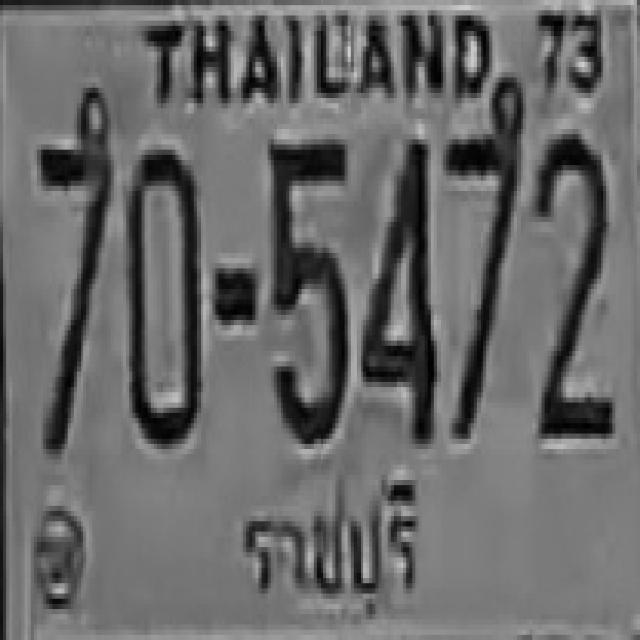0: (125, 144, 202, 444)
2: (532, 129, 610, 434)
4: (358, 134, 436, 439)
5: (268, 137, 348, 441)
7: (36, 108, 112, 454), (443, 116, 523, 436)
Ratchaburi: (231, 471, 426, 631)
